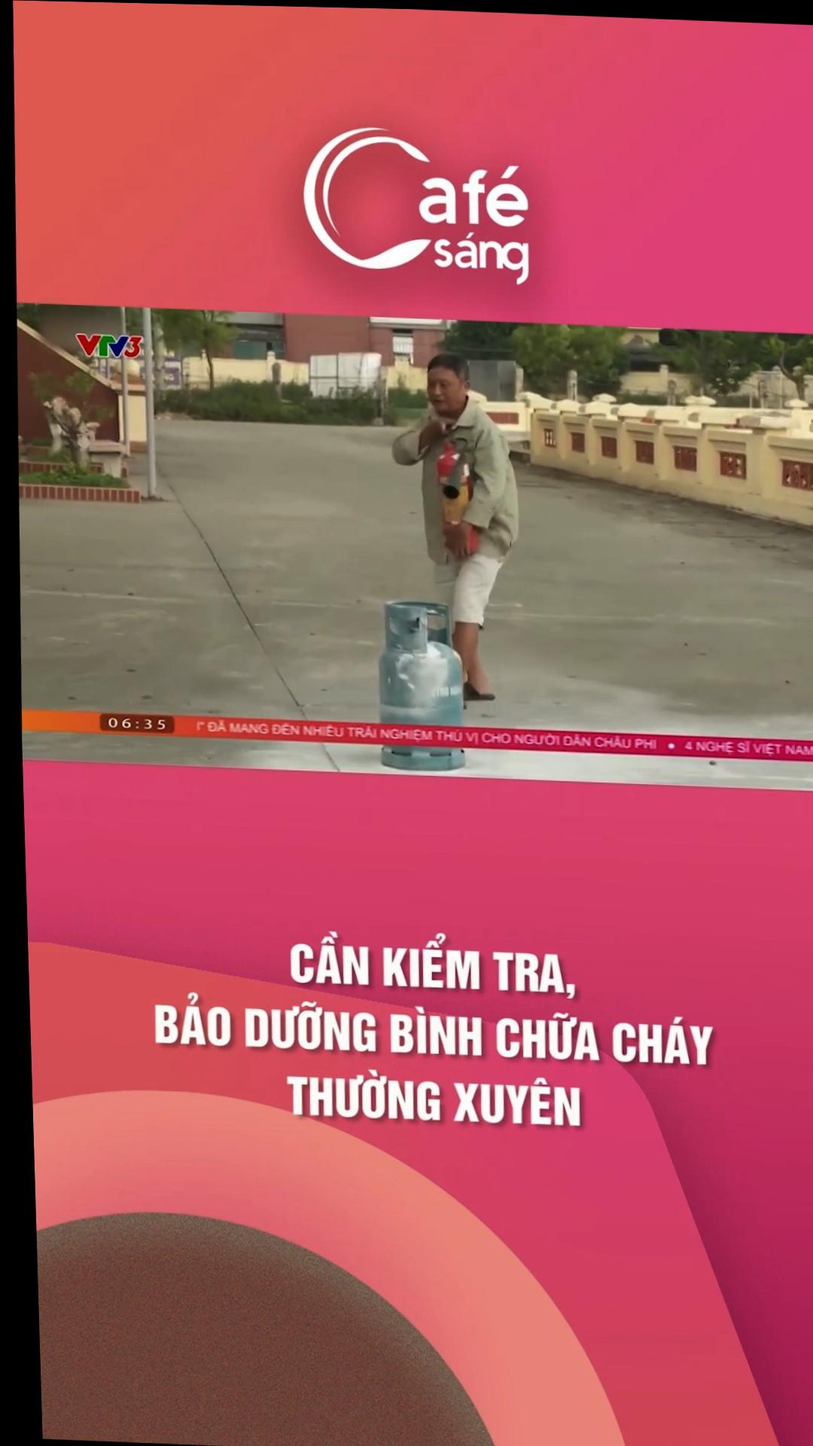FireExtinguisher: (413, 433, 486, 563)
